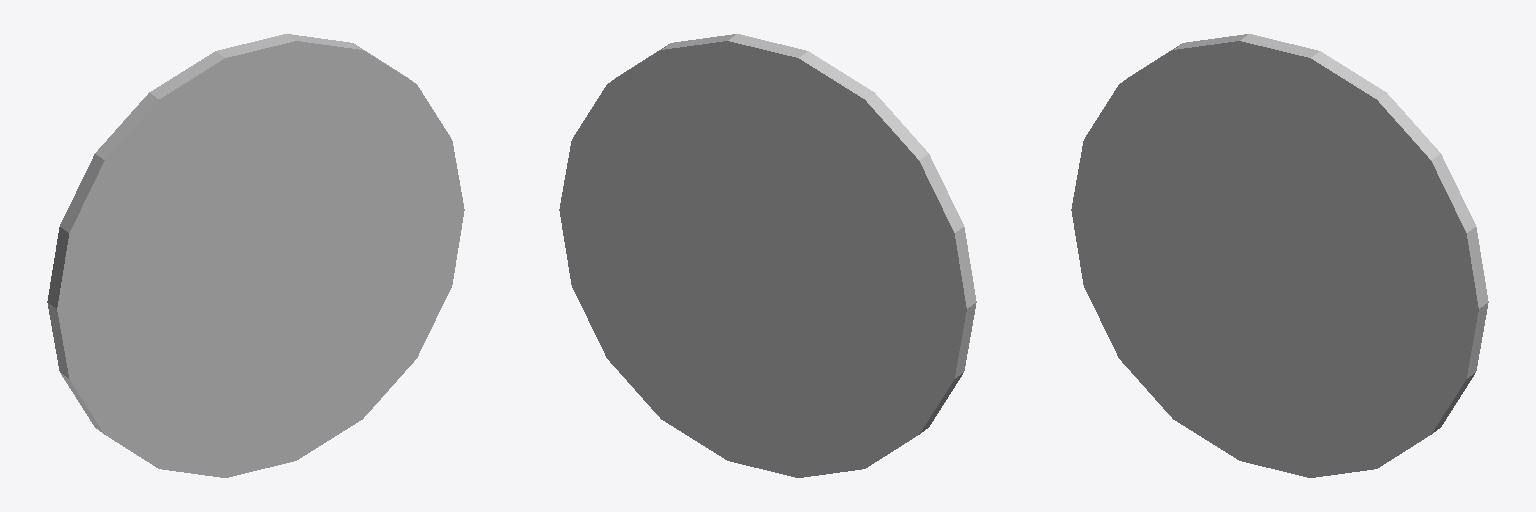
Rendered from Target.obj.
The picture shows the model from 3 angles: view 1: azimuth 30°, elevation 25°; view 2: azimuth 150°, elevation 25°; view 3: azimuth 330°, elevation 25°; orthographic projection.
Visible parts, largest first — view 1: Cylinder01; view 2: Cylinder01; view 3: Cylinder01.
Part boxes in pixels (bbox=[...]): Cylinder01: bbox=[47, 34, 464, 477]; Cylinder01: bbox=[559, 34, 976, 477]; Cylinder01: bbox=[1071, 34, 1488, 477].
Bounding box in the file's own units: 72.11 × 71.02 × 3.